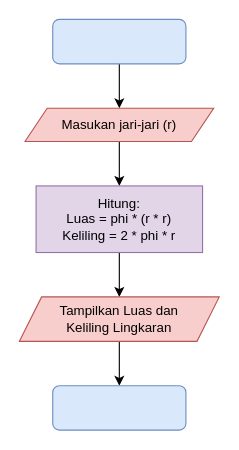
This 239x450 diagram has some shape labels left out. Each missing label, with the centre of its shape:
"Mulai" goes at point 119,41.
"Selesai" goes at point 119,407.
